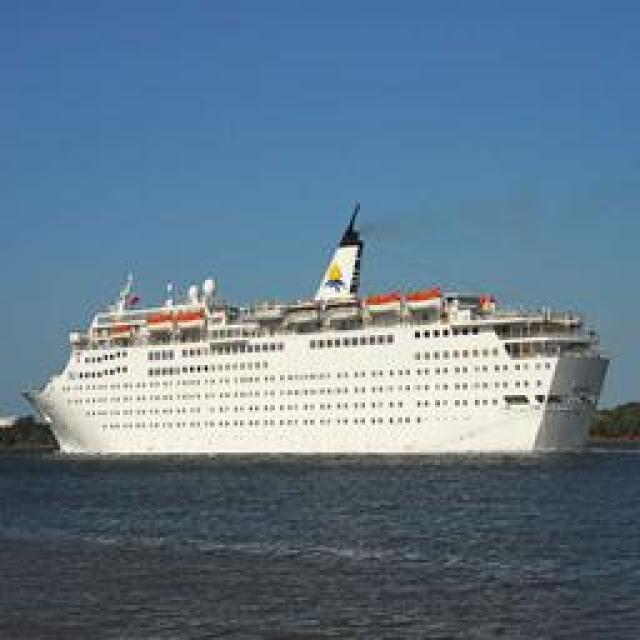ship2: (21, 203, 612, 458)
